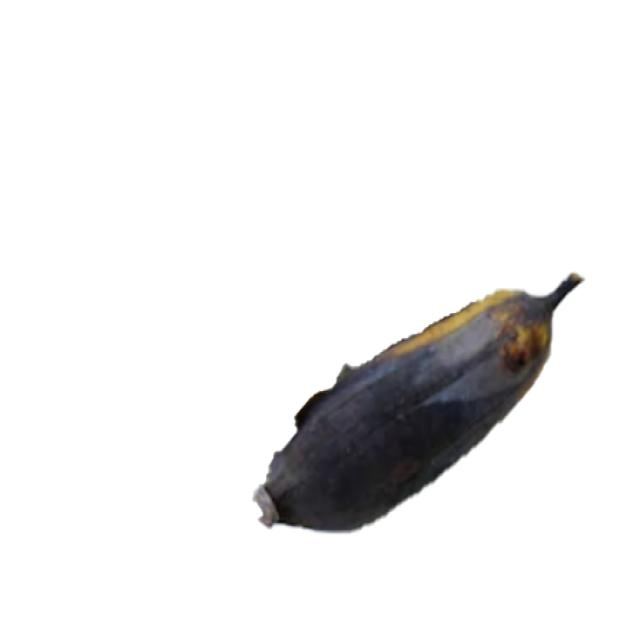rotten-banana: (251, 268, 585, 533)
